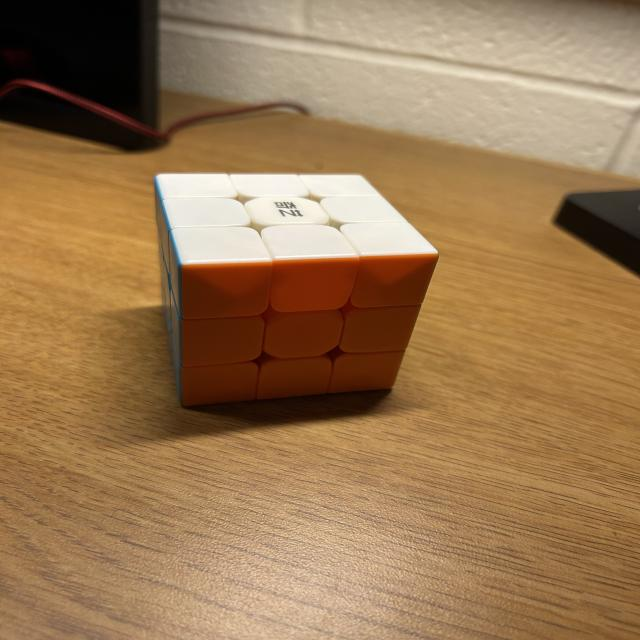Rubiks Cube: (155, 173, 440, 405)
